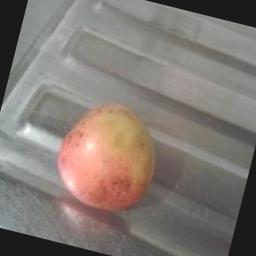Mango Unripe: (28, 84, 176, 228)
